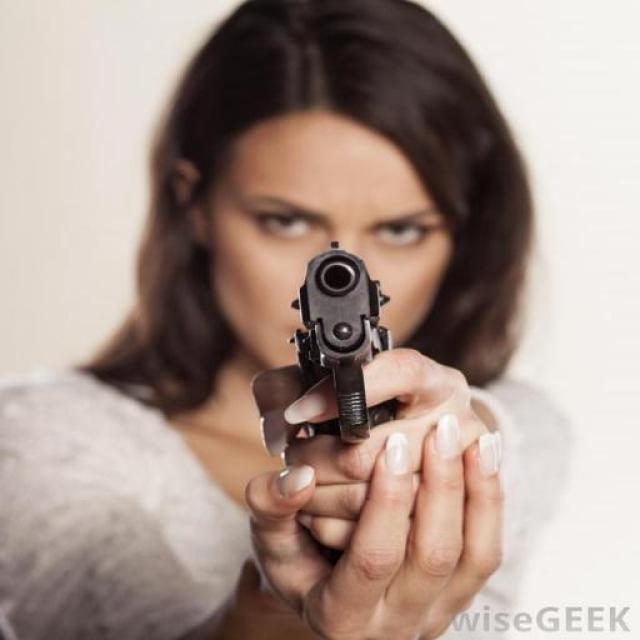pistol: (282, 237, 396, 446)
